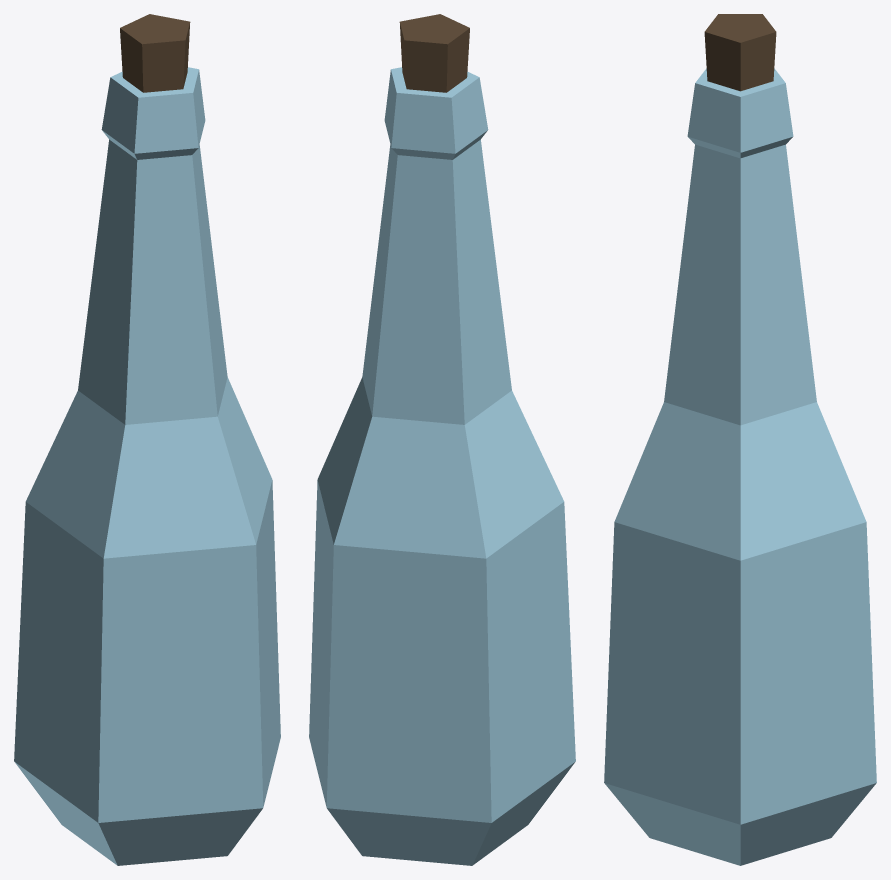
File: bottlepost.fbx
The picture shows the model from 3 angles, left to right: view 1: azimuth 30°, elevation 25°; view 2: azimuth 150°, elevation 25°; view 3: azimuth 270°, elevation 25°; orthographic projection.
Visible parts, largest first — view 1: pCylinder3; view 2: pCylinder3; view 3: pCylinder3.
Boxes of the visible parts, left/top/right/bottom form: pCylinder3: left=14, top=14, right=280, bottom=865; pCylinder3: left=309, top=14, right=575, bottom=865; pCylinder3: left=604, top=14, right=876, bottom=865.
Size of the model in its own units: 1.81 by 6.15 by 1.9.
